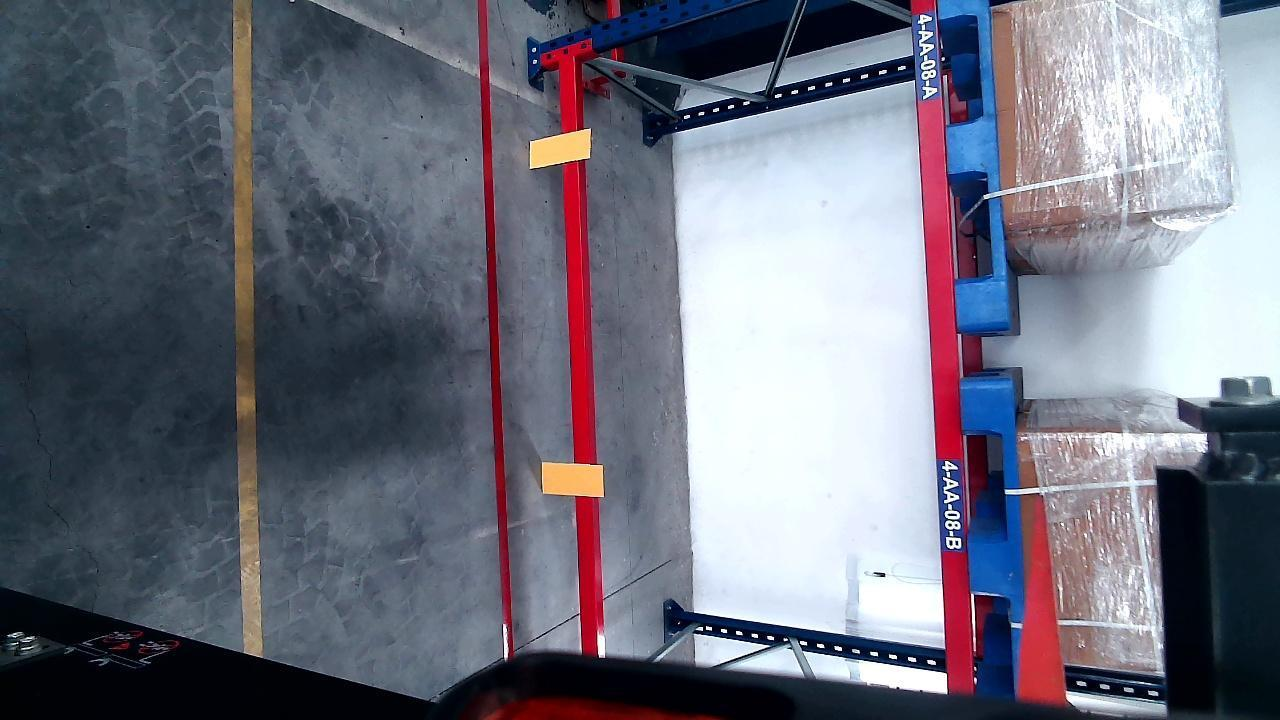h_rack: (558, 46, 600, 656)
orange_strip: (529, 130, 590, 167), (539, 462, 603, 496)
small_pallet: (941, 1, 1014, 332), (965, 384, 1033, 687)
yellow_line: (231, 7, 261, 660)
